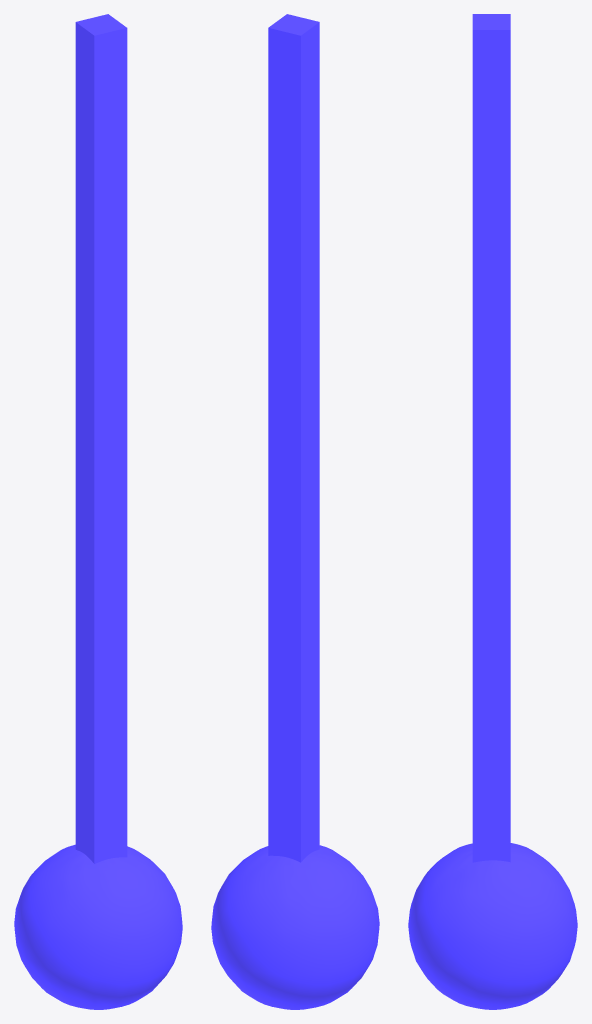
Rendered from NewWebMenuContattiListner2.gltf.
3 views of the same model, side by side, from view 1: azimuth 30°, elevation 25°; view 2: azimuth 150°, elevation 25°; view 3: azimuth 270°, elevation 25° (orthographic).
Parts seen in each view (by area): view 1: ListnerModuli.002; view 2: ListnerModuli.002; view 3: ListnerModuli.002.
Boxes of the visible parts, x1,y1,x2,y2 form: ListnerModuli.002: (14,14,182,1009); ListnerModuli.002: (211,14,379,1009); ListnerModuli.002: (408,14,577,1009).
Bounding box in the file's own units: 0.0421 × 0.2687 × 0.0421.
